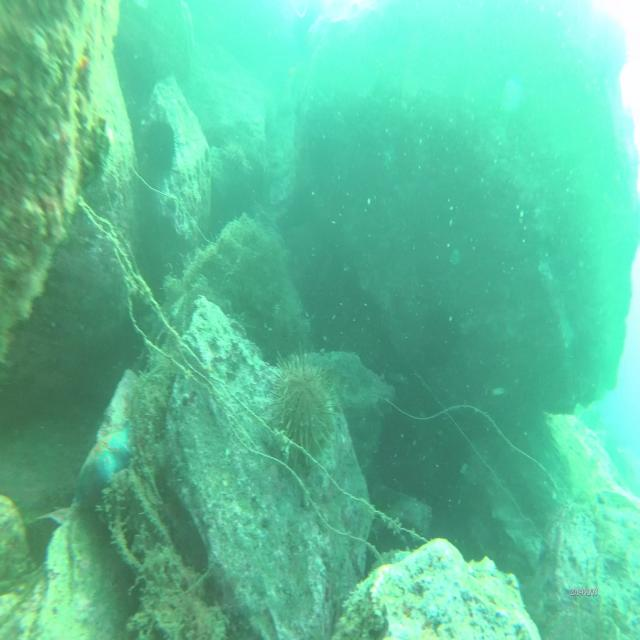echinus: (270, 350, 334, 454)
starfish: (76, 427, 134, 505)
